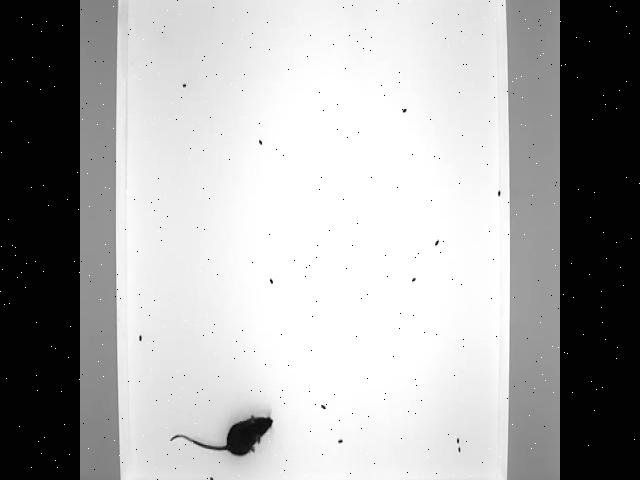Tikus: (164, 396, 283, 457)
